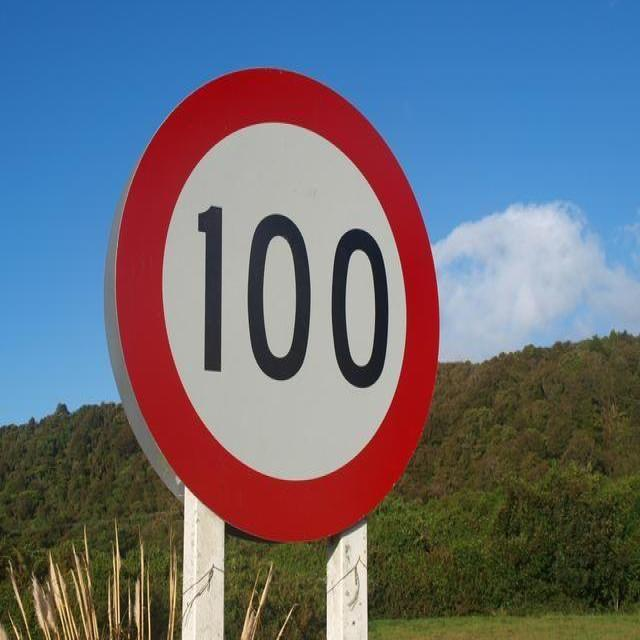speed limit 100: (114, 67, 439, 544)
